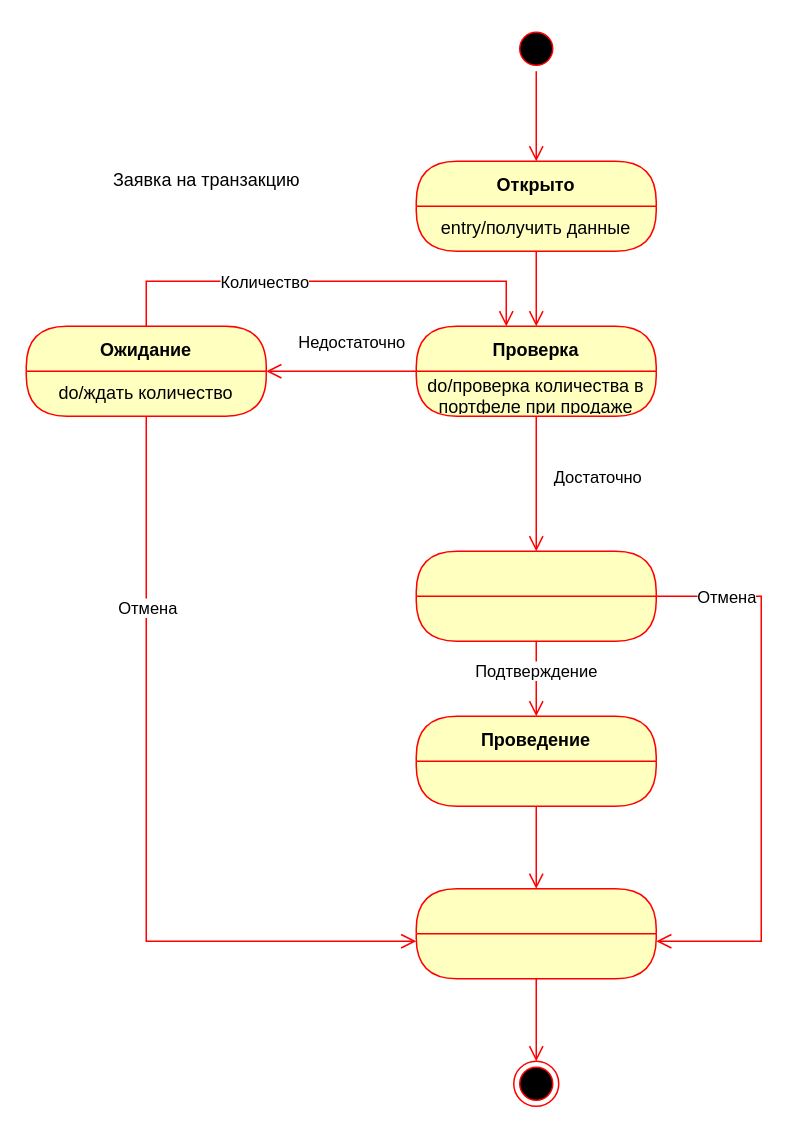
Some shapes in this 803 by 1133 pixel diagram are drawn without their labels. The shapes that lost their labels are listed below. From the top down, each one's centre as x and y in pixels, then its label:
At [535,595]: "Ожидание подтверждения".
At [535,933]: "Закрыто".
